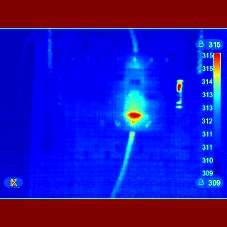Critical: (128, 93, 150, 126), (178, 81, 183, 92)
